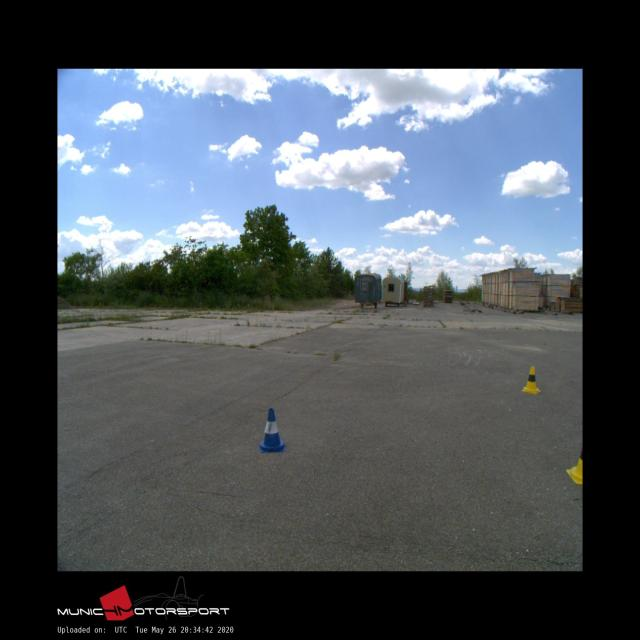blue_cone: (258, 408, 285, 451)
yellow_cone: (521, 365, 539, 393)
